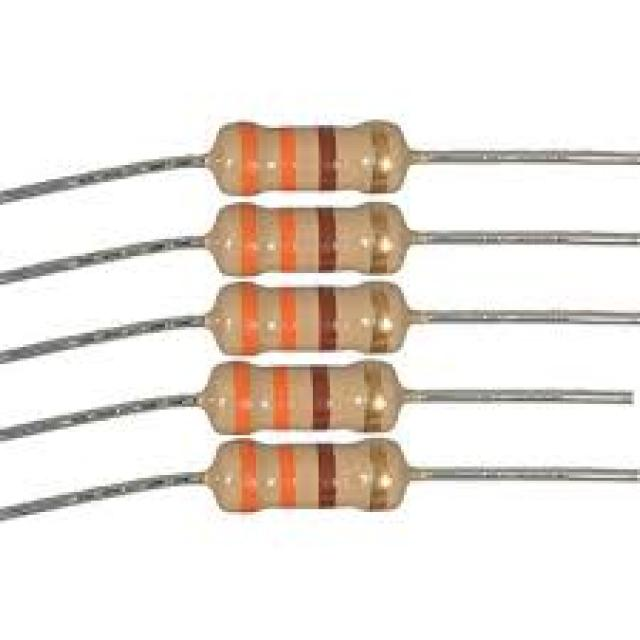capacitor: (176, 356, 430, 438), (176, 438, 418, 518), (185, 199, 424, 279), (185, 278, 429, 356), (205, 120, 424, 199)
